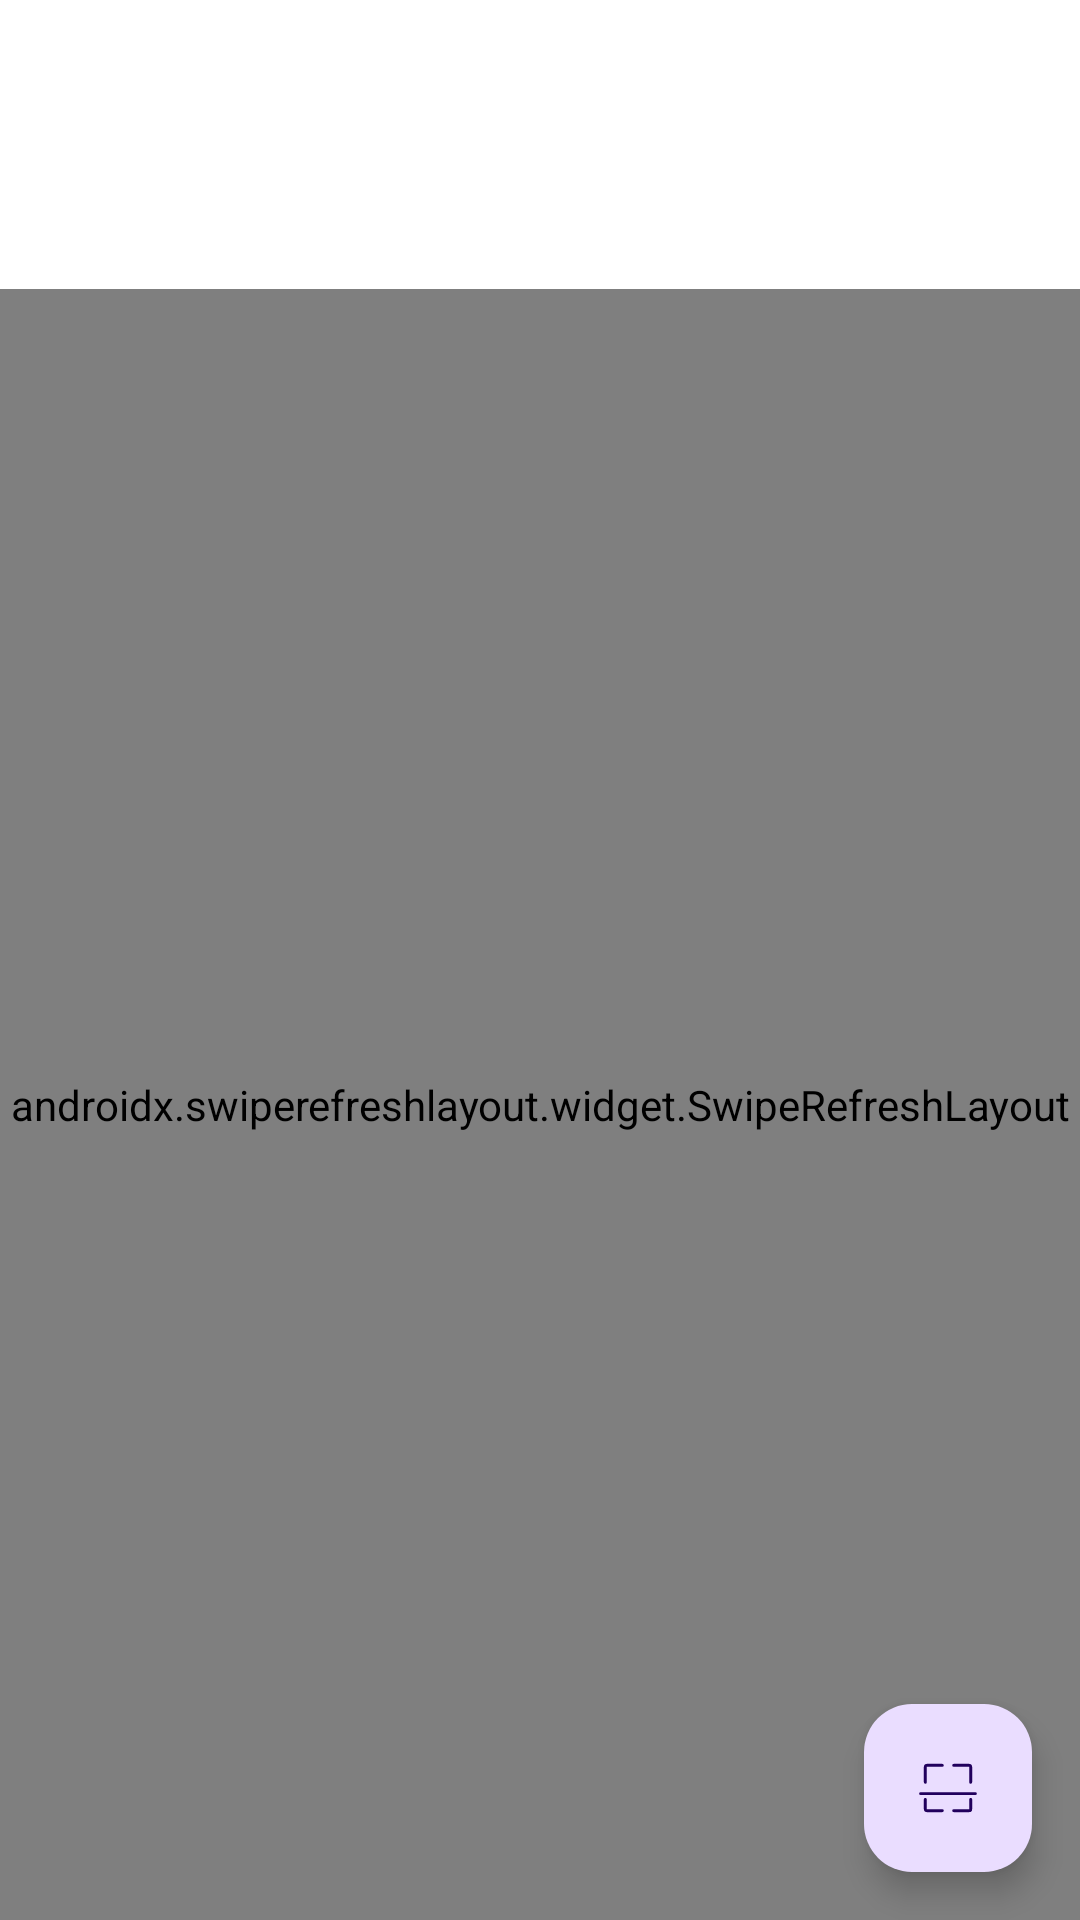

Where icons sit on this 1080px×1920px app screen, as (x1, y1, x2, y2):
Alternate pairing: (864, 1704, 1032, 1872)
